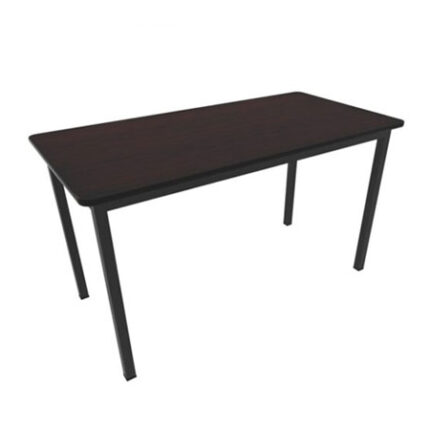m01: (28, 90, 405, 382)
